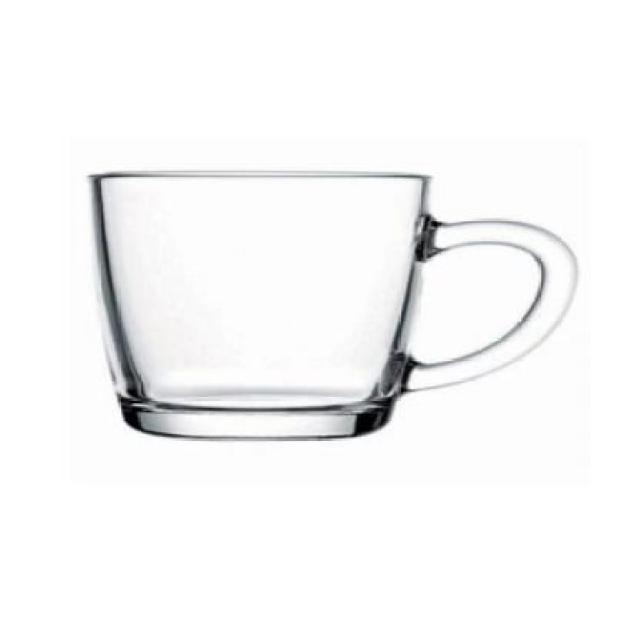taza: (82, 166, 581, 443)
